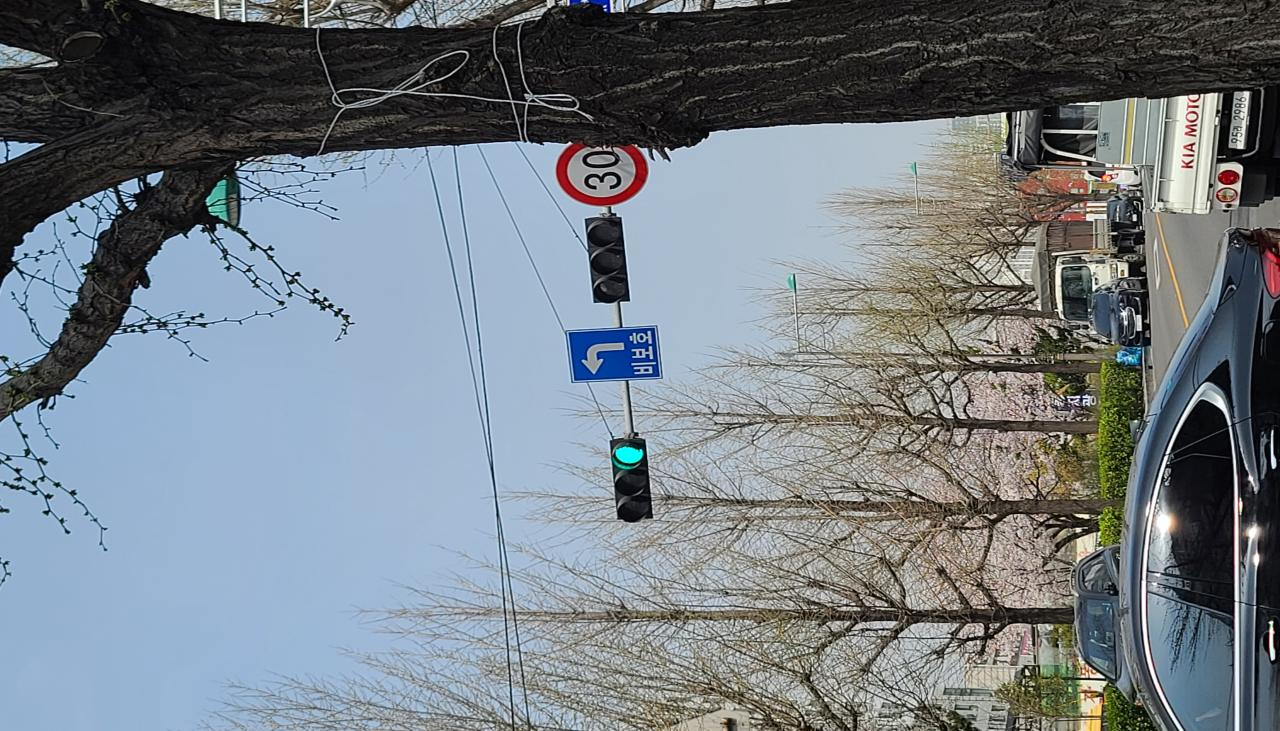Green Light: (341, 463, 381, 493)
